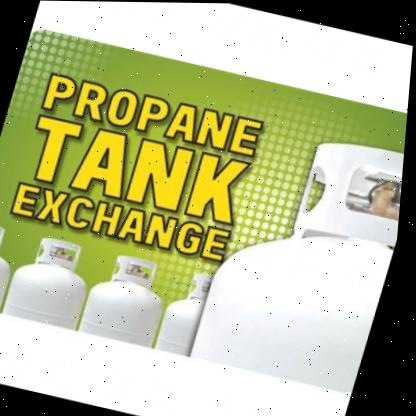gas-tank: (176, 101, 409, 408), (2, 228, 116, 347), (73, 244, 183, 362), (151, 262, 221, 367), (0, 211, 45, 336)
